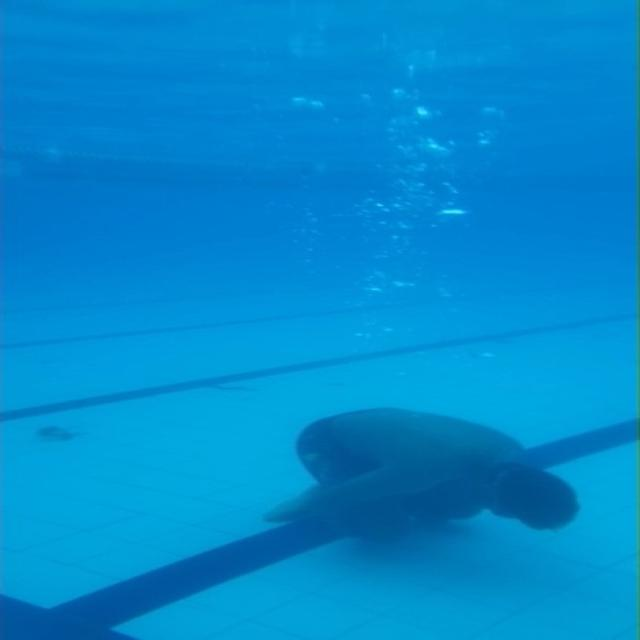Drowning: (265, 408, 582, 549)
